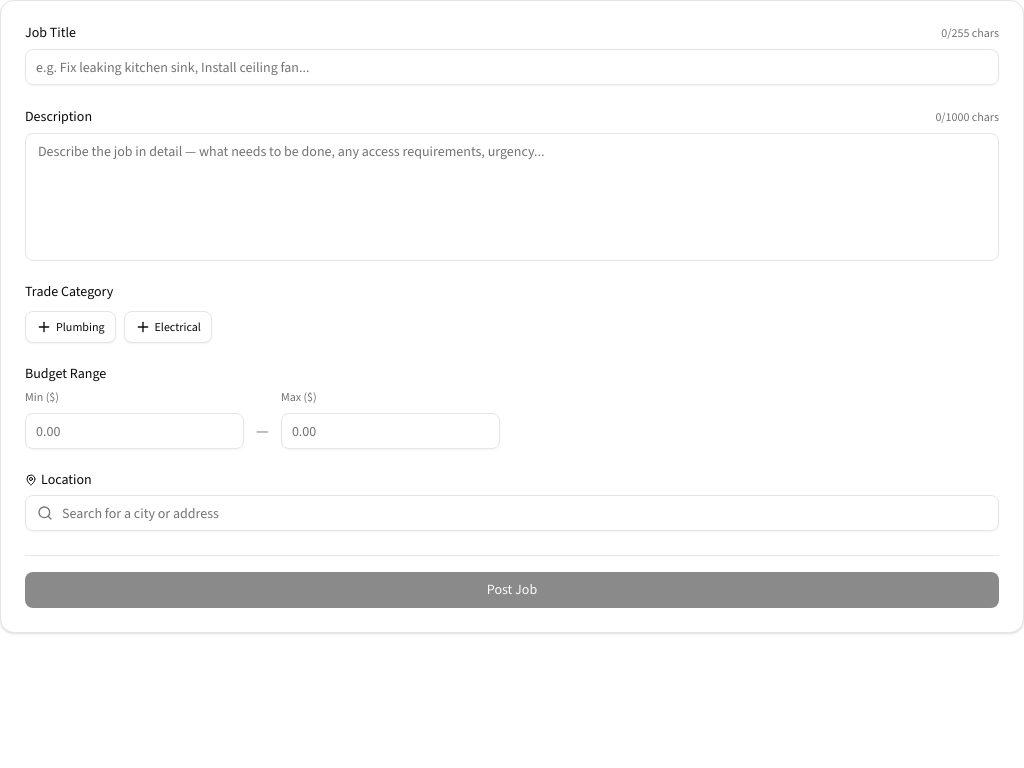
Test: JobCreateForm › validation › shows title validation error when title is empty and field is touched
Click the field labelled "Job Title" at (512,67), box [25,49,999,85]
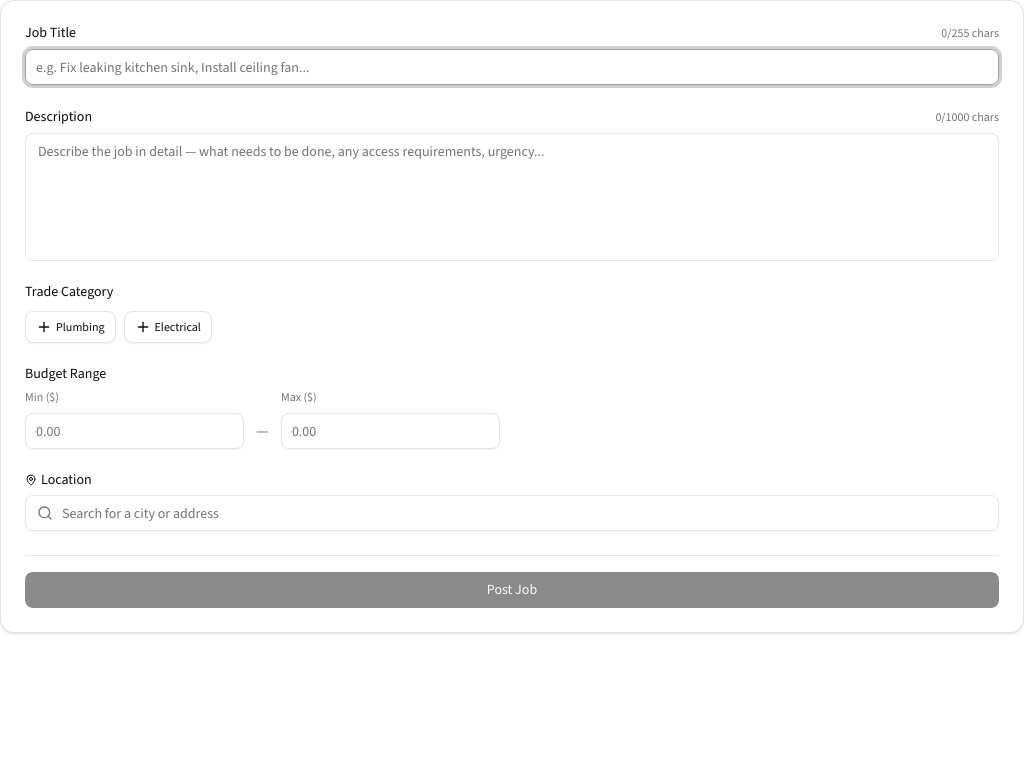
Press Tab
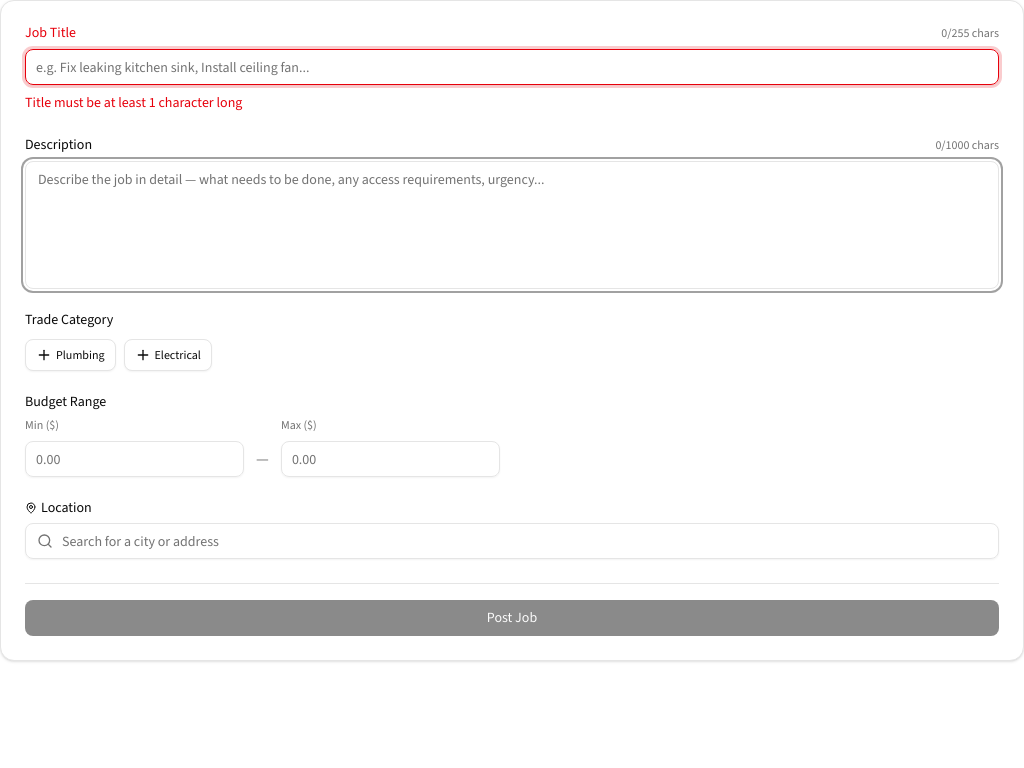
Expected: the text "Title must be at least 1 character long" is shown, [25,93,242,112]
